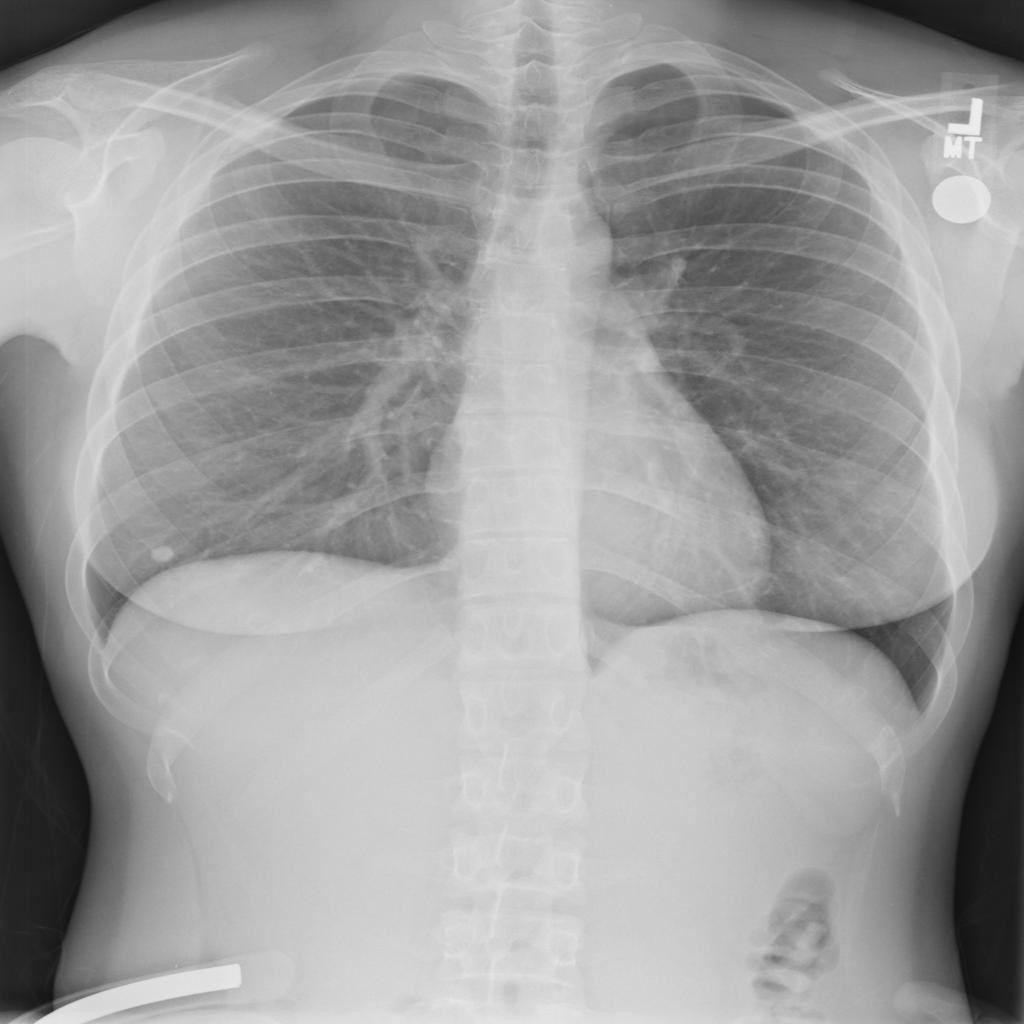nodule: (140, 537, 185, 568)
